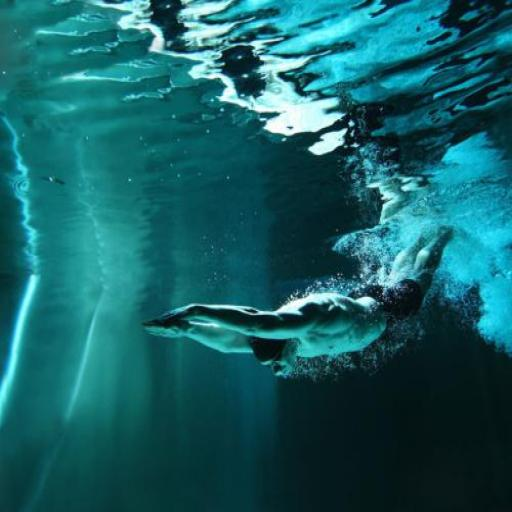swimming: (139, 222, 456, 382)
